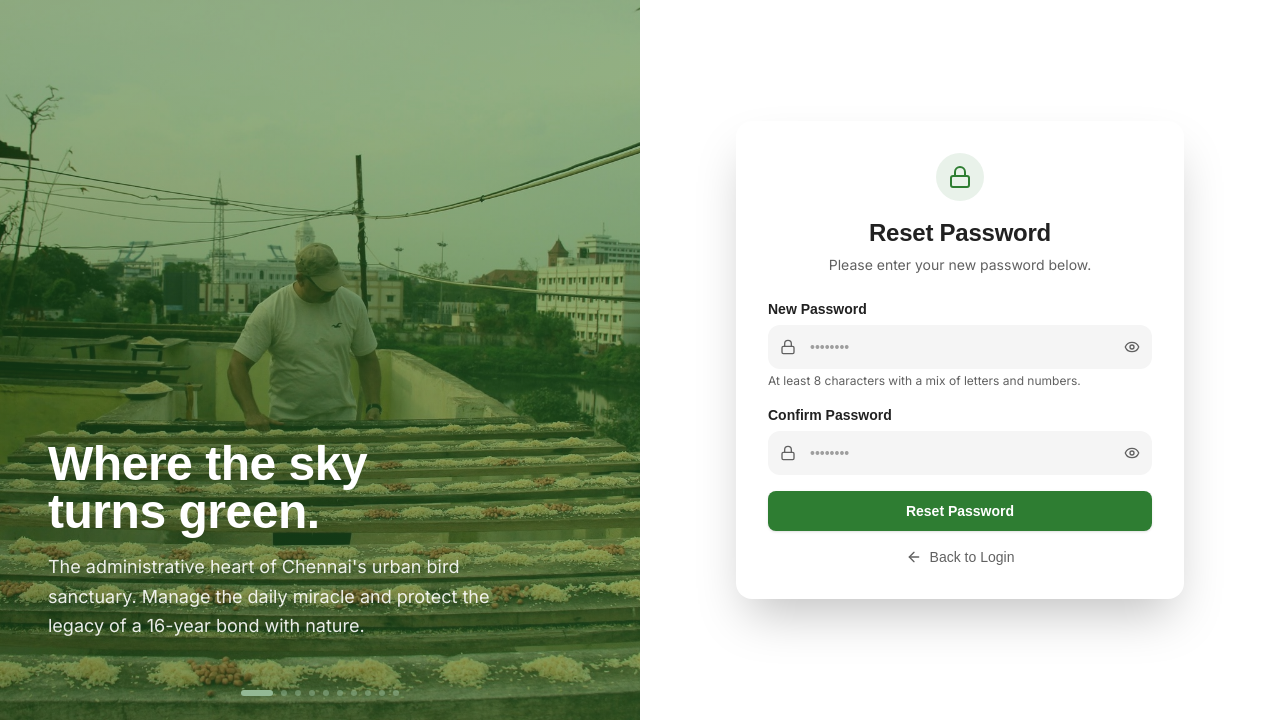
Test: Reset Password Page › Form Validation › shows error when password is less than 8 characters
The image size is (1280, 720).
Type "Short1" into the password field labelled "New Password" at (960, 347), box [768,325,1152,369]
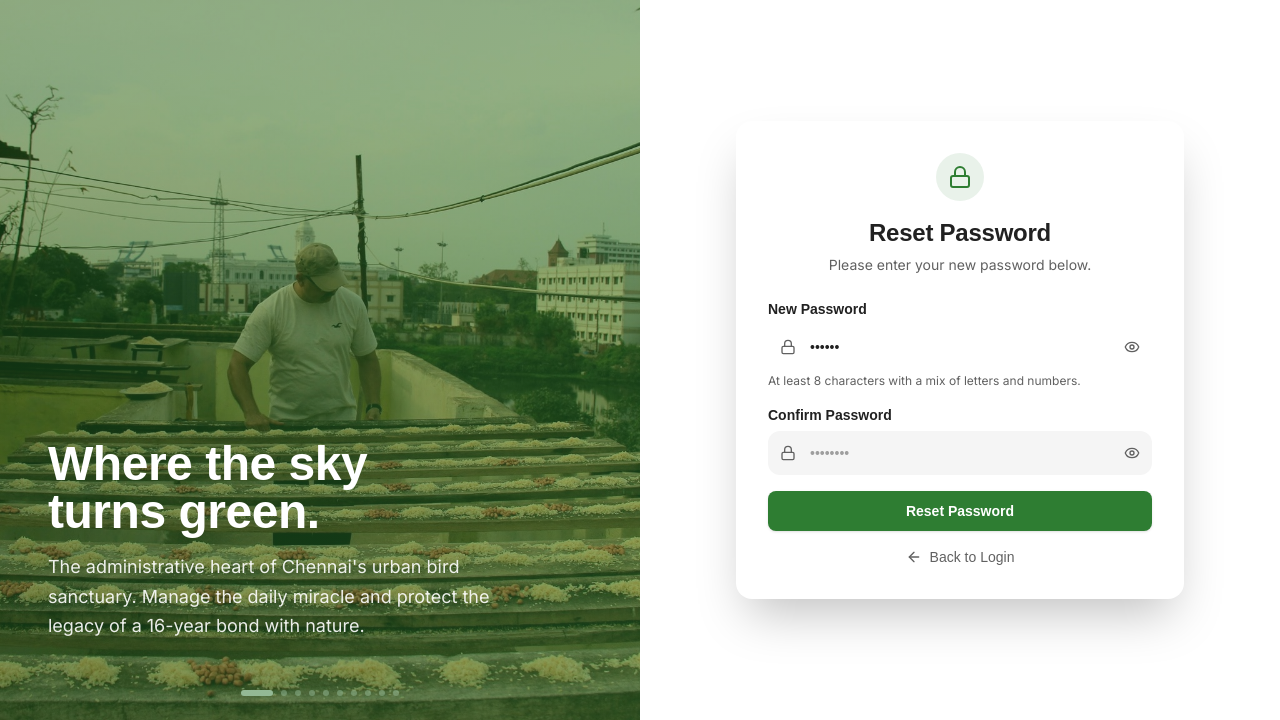
Type "Short1" into the password field labelled "Confirm Password" at (960, 453), box [768,431,1152,475]
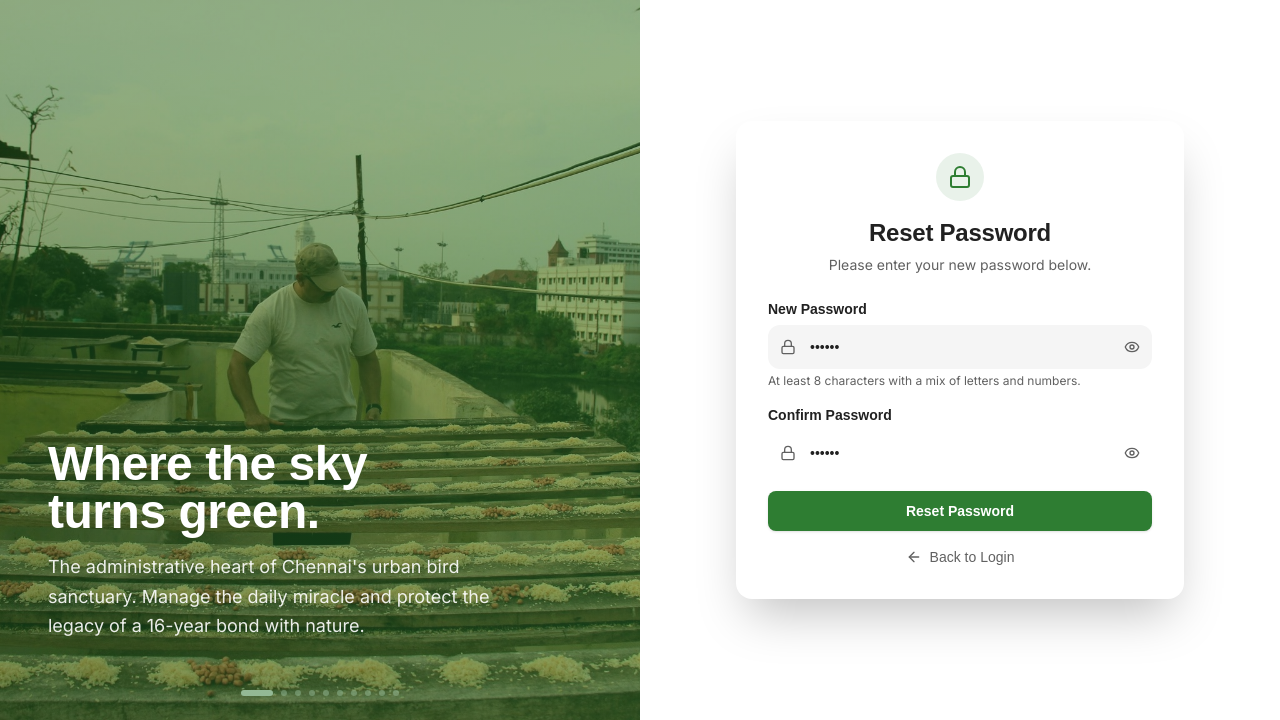
Click the button "Reset Password" at (960, 511), box [768,491,1152,531]
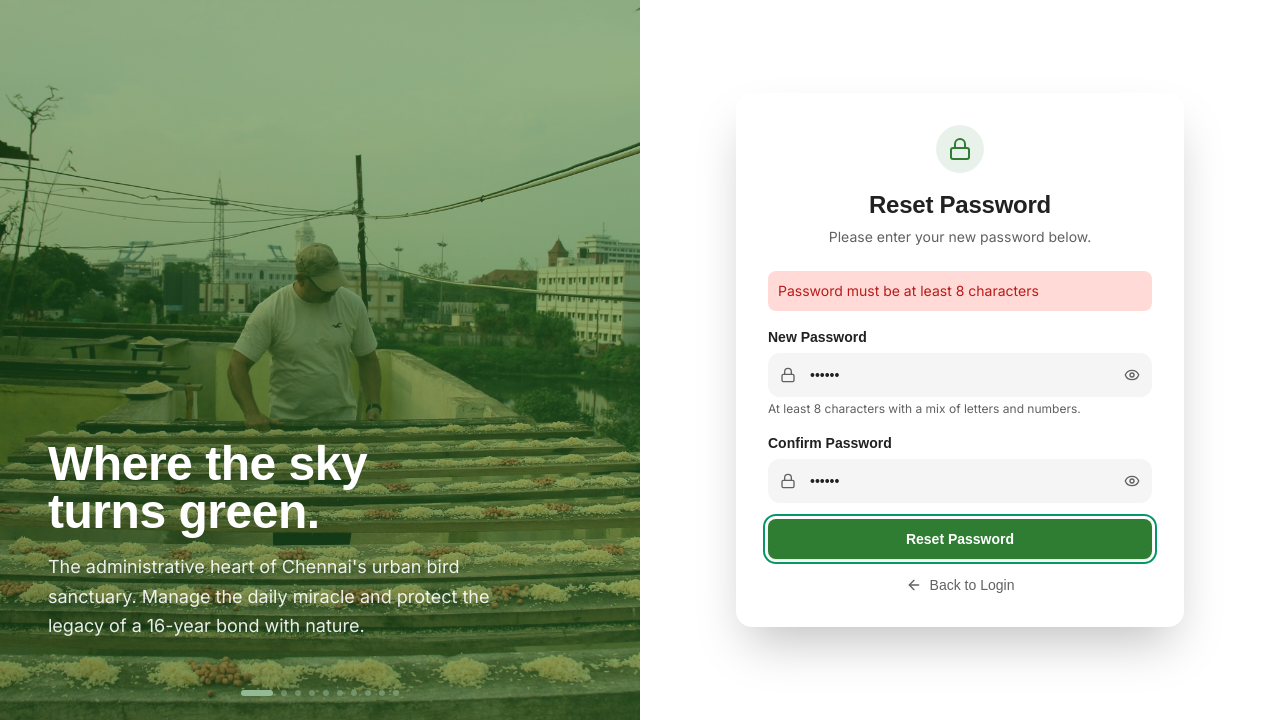
Check: the text "Password must be at least 8 characters" is shown, box [768,271,1152,311]
